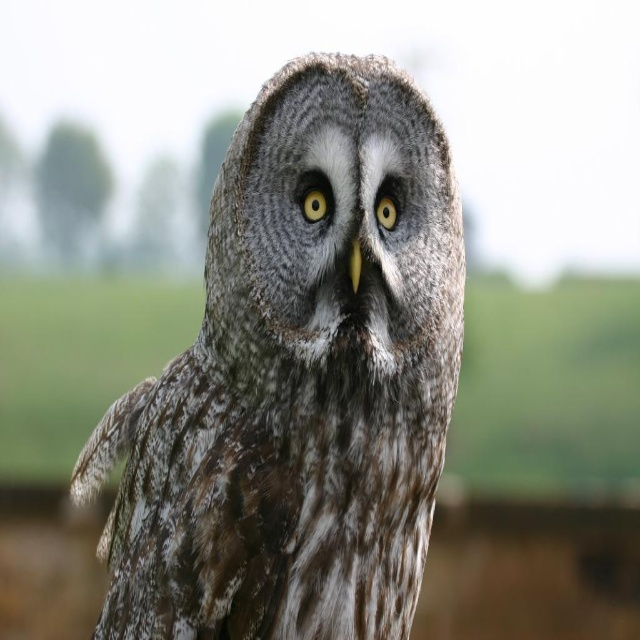Owl: (71, 50, 466, 639)
